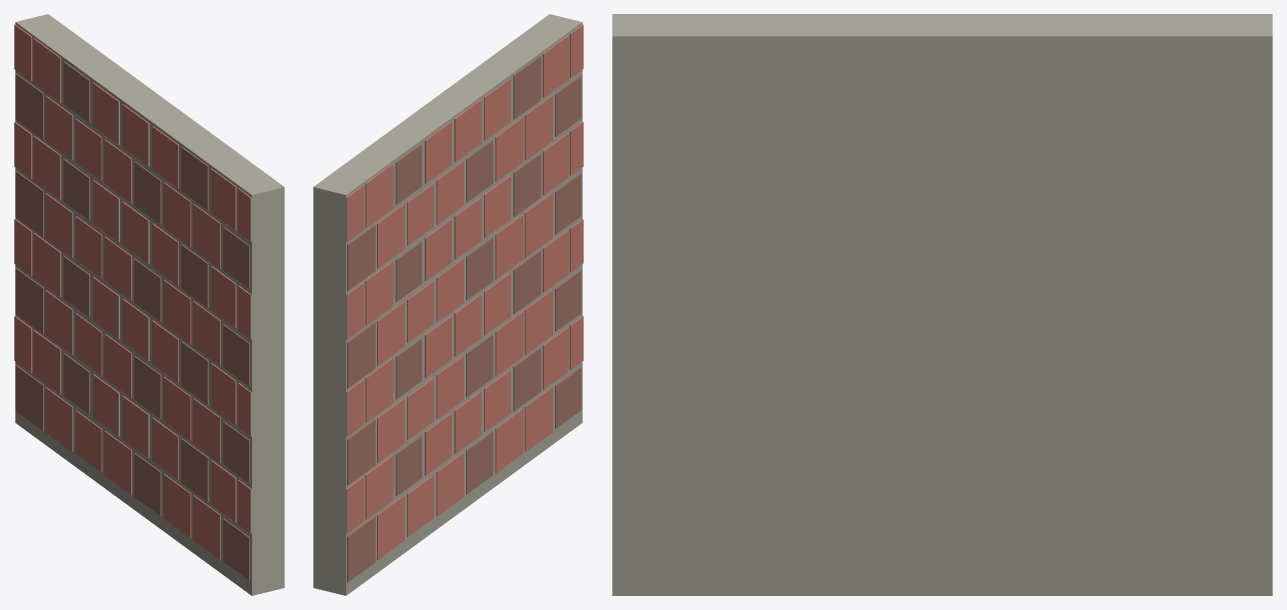
Rendered from ExteriorWall_1.fbx.
3 views of the same model, side by side, from view 1: azimuth 30°, elevation 25°; view 2: azimuth 150°, elevation 25°; view 3: azimuth 270°, elevation 25° (orthographic). The views are drawn at different scales.
Visible parts, largest first — view 1: ExteriorWall_1; view 2: ExteriorWall_1; view 3: ExteriorWall_1.
Part boxes in pixels (x1,y1,x2,y2): ExteriorWall_1: [14, 14, 284, 595]; ExteriorWall_1: [313, 14, 583, 595]; ExteriorWall_1: [612, 14, 1272, 595].
Bounding box in the file's own units: 32.65 × 366 × 392.
